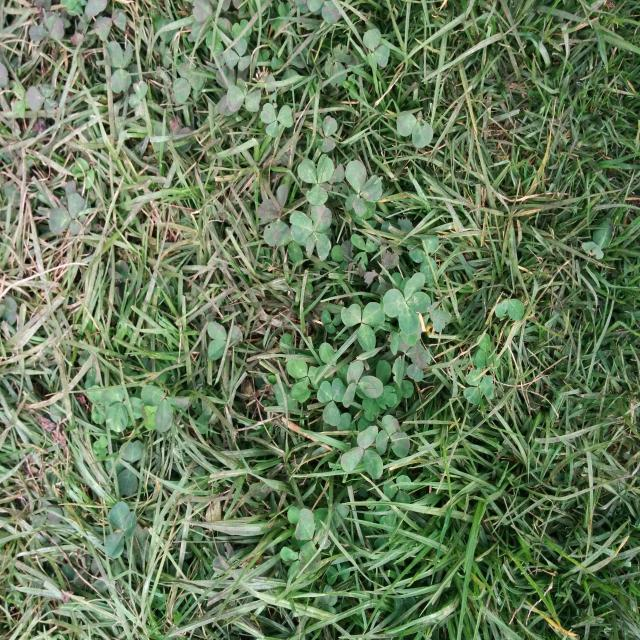Four Leaf Clover: (382, 272, 431, 335)
